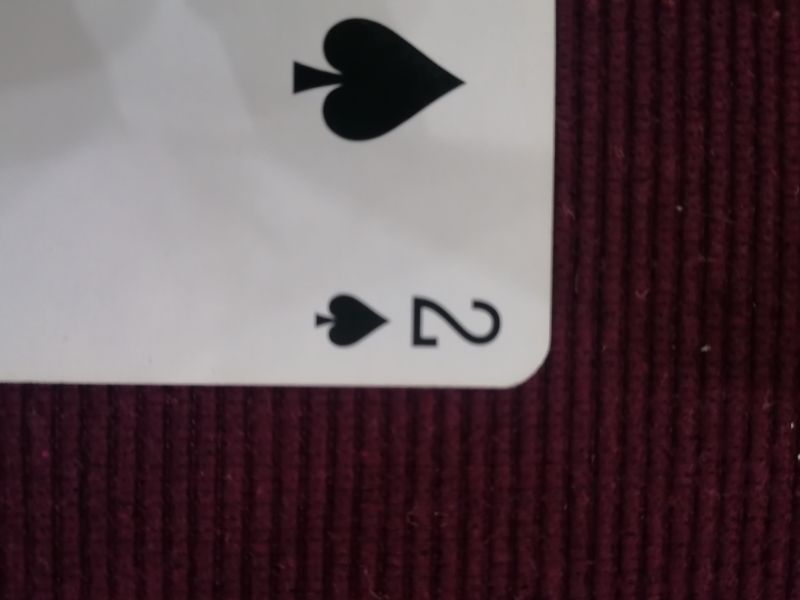2s: (308, 287, 509, 358)
